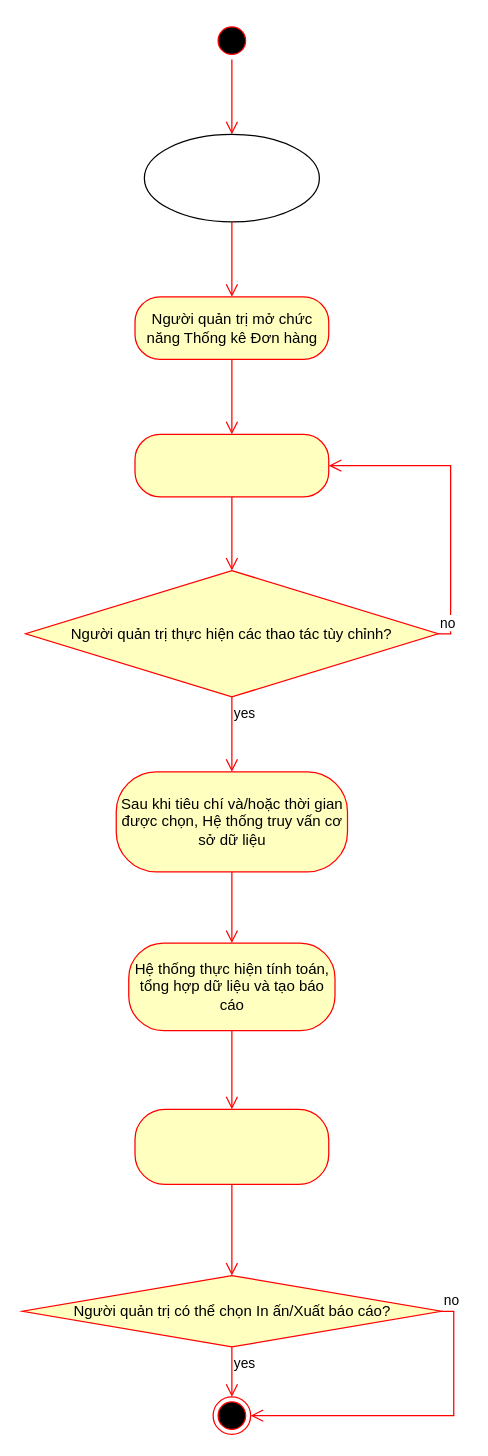
Image size: 488x1456. Some labels were removed from this diagram. The shapes that lost their labels are listed below. From the top down, each one's centre as x and y in pixels, then its label:
the point at 231,177: Đăng Nhập
the point at 231,465: Hệ thống hiển thị giao diện báo cáo mặc định
the point at 231,1146: Hệ thống hiển thị kết quả báo cáo dưới dạng bảng biểu và/hoặc đồ thị trực quan
